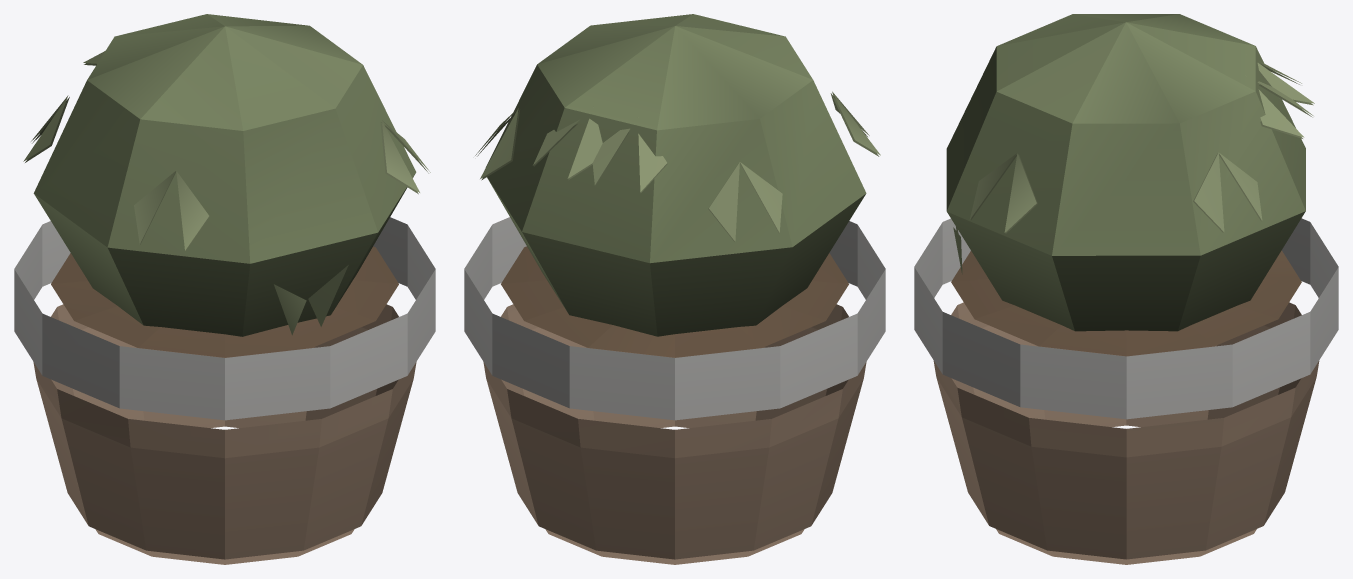
Rendered from basil.lod.glb.
The picture shows the model from 3 angles, left to right: view 1: azimuth 30°, elevation 25°; view 2: azimuth 150°, elevation 25°; view 3: azimuth 270°, elevation 25°; orthographic projection.
Parts seen in each view (by area): view 1: basil.001; view 2: basil.001; view 3: basil.001.
Boxes of the visible parts, x1,y1,x2,y2 form: basil.001: (14, 14, 435, 564); basil.001: (464, 14, 885, 564); basil.001: (914, 14, 1338, 564).
Size of the model in its own units: 0.72 by 0.8992 by 0.72.
